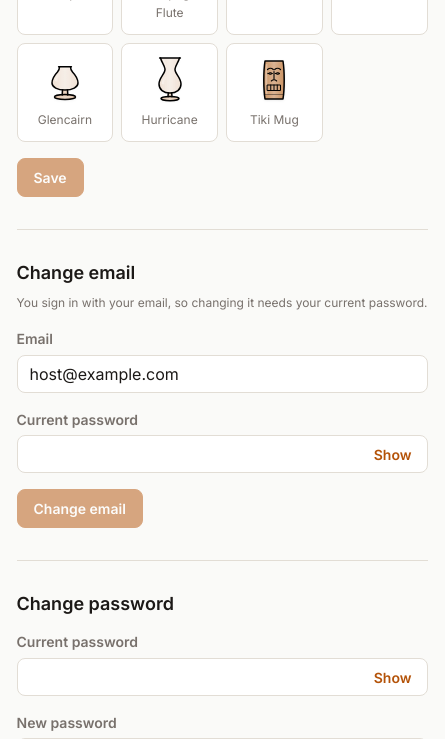
Test: changing the email › always shows the current password field, and needs it before saving
(page scrolled)
Expected: the 1st password field labelled "Current password" is shown, top-left (16, 435), bottom-right (428, 473)
Replace the text in the field labelled "Email" with "new@example.com" at point(222, 374), box top-left (16, 355), bottom-right (428, 393)
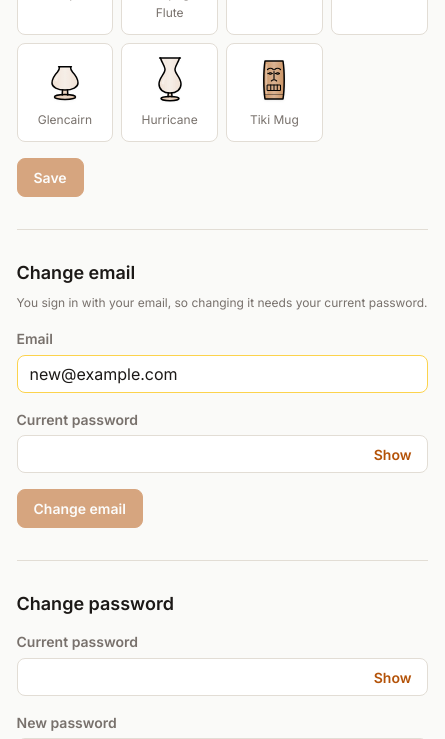
Expected: the button "Change email" is disabled, top-left (16, 489), bottom-right (143, 528)
Type "correct-horse" into the 1st password field labelled "Current password" at point(222, 454), box top-left (16, 435), bottom-right (428, 473)
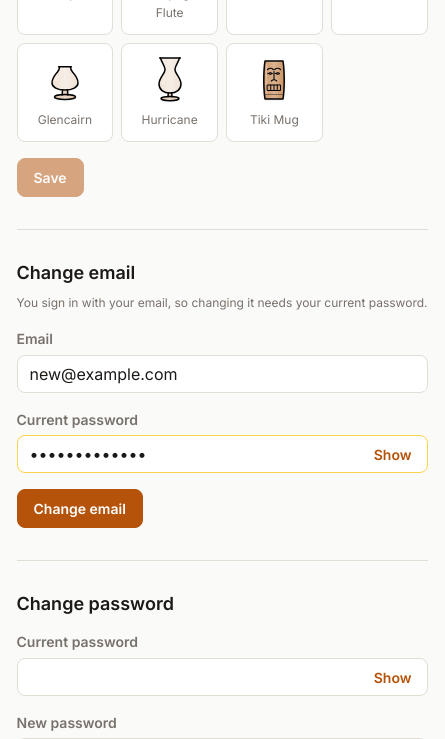
Click the button "Change email" at point(80, 508), box top-left (16, 489), bottom-right (143, 528)
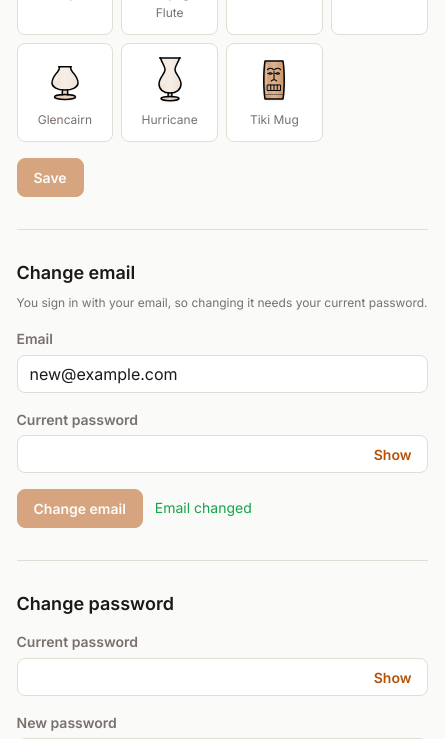
Result: the message reads "Email changed" at top-left (155, 499), bottom-right (252, 516)
Result: the 1st password field labelled "Current password" is empty at top-left (16, 435), bottom-right (428, 473)
